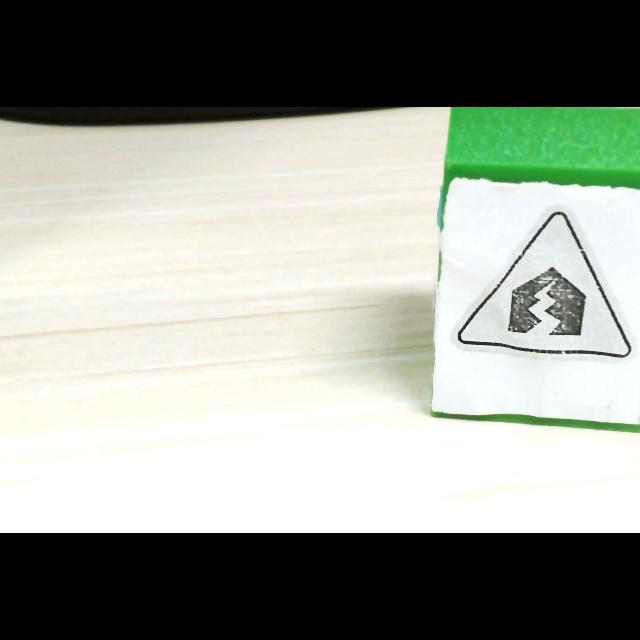Earthquake: (456, 212, 631, 360), (456, 214, 630, 360)
